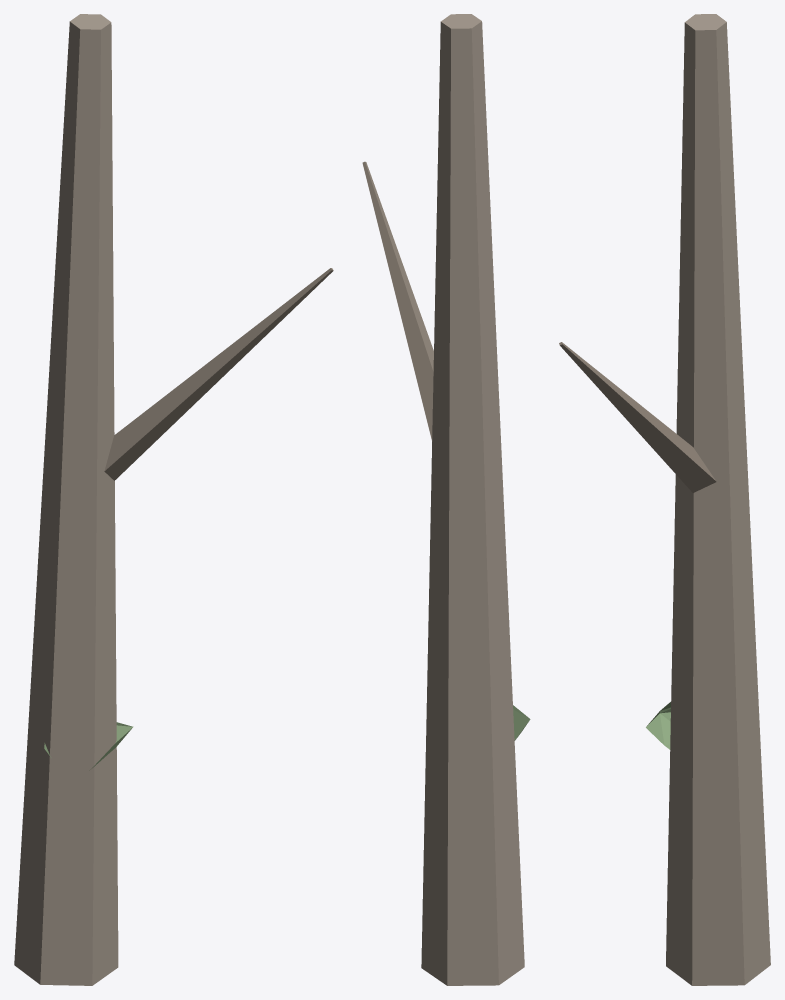
File: snag_v18.glb
3 renders of one model, left to right at view 1: azimuth 30°, elevation 25°; view 2: azimuth 150°, elevation 25°; view 3: azimuth 270°, elevation 25°, orthographic.
Parts seen in each view (by area): view 1: lod0; view 2: lod0; view 3: lod0.
Boxes of the visible parts, x1,y1,x2,y2 form: lod0: (14,14,333,985); lod0: (362,14,530,985); lod0: (559,14,770,985).
Size of what is drawn, in the model's own units: 0.9848 by 3.91 by 0.7864.
